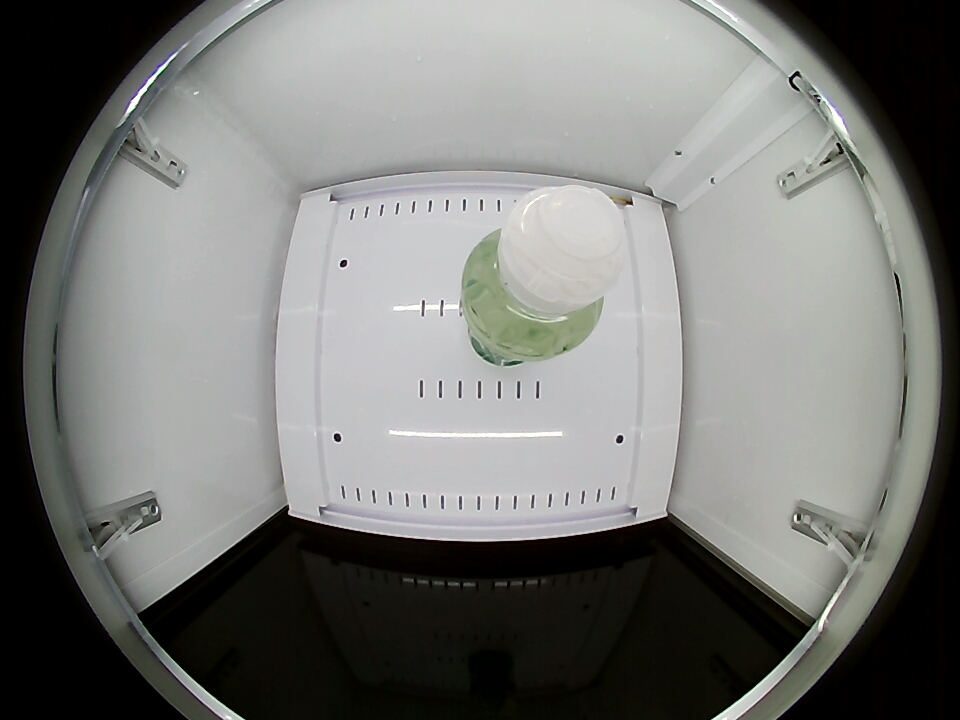jianjiao: (465, 186, 626, 360)
